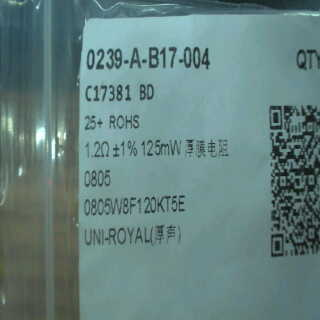1.2R: (79, 142, 119, 190)
